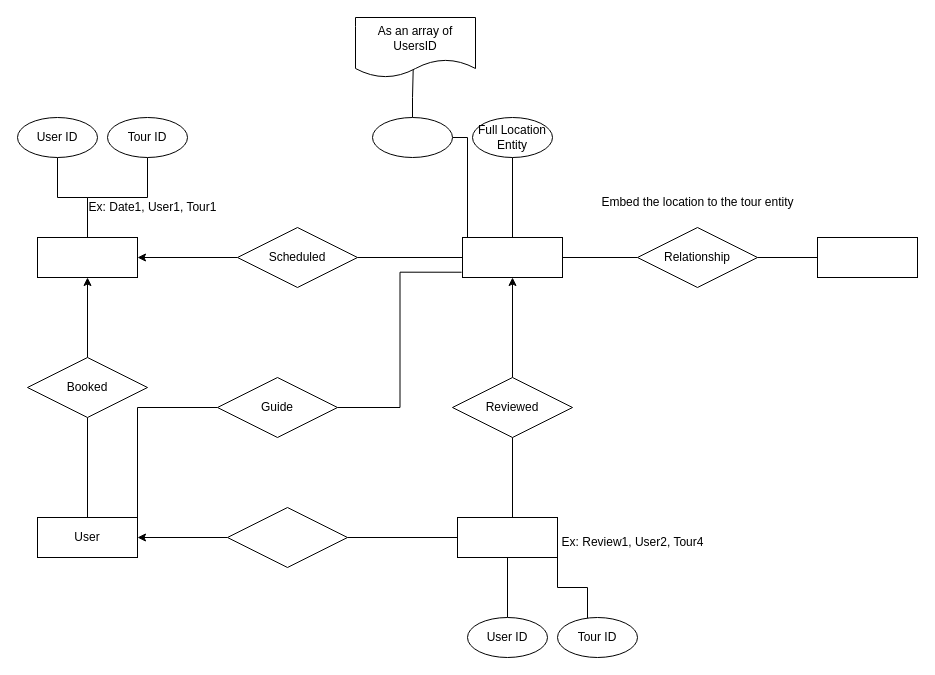
Some shapes in this 935 by 675 pixel diagram are drawn without their labels. The shapes that lost their labels are listed below. From the top down, each one's box as (x1, y1, x2, y2) in pixels, then its label:
(372, 116, 452, 158): UserID(Role)
(36, 236, 138, 278): Booking
(462, 236, 562, 278): Tour
(816, 236, 918, 278): Location
(226, 506, 348, 568): Reviews
(456, 516, 558, 558): Review
